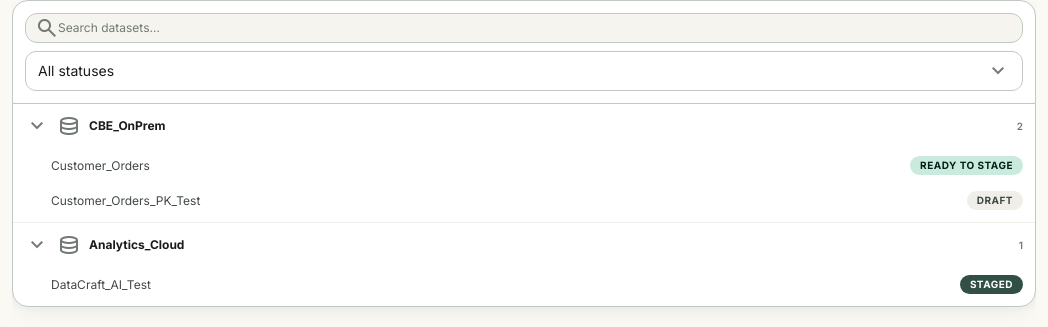
Test: ConnectionDatasetExplorer › filters datasets by status when the status filter is used
Click the button with aria-label "Filter by status": (76, 70) [25, 51, 1023, 91]
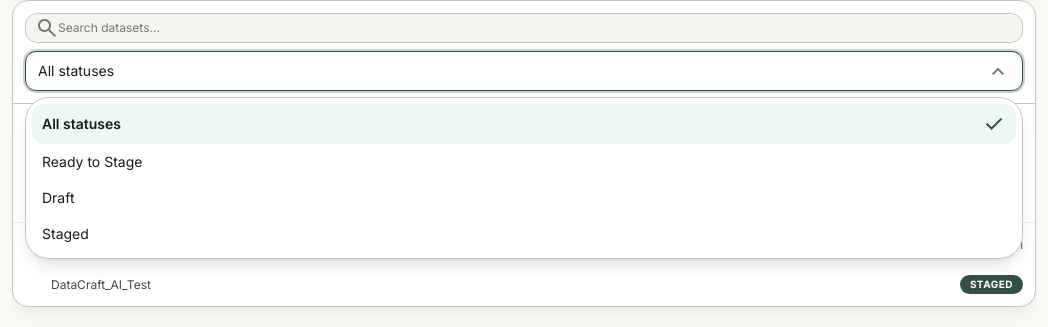
Click the option "Staged": (65, 234) [42, 225, 89, 242]
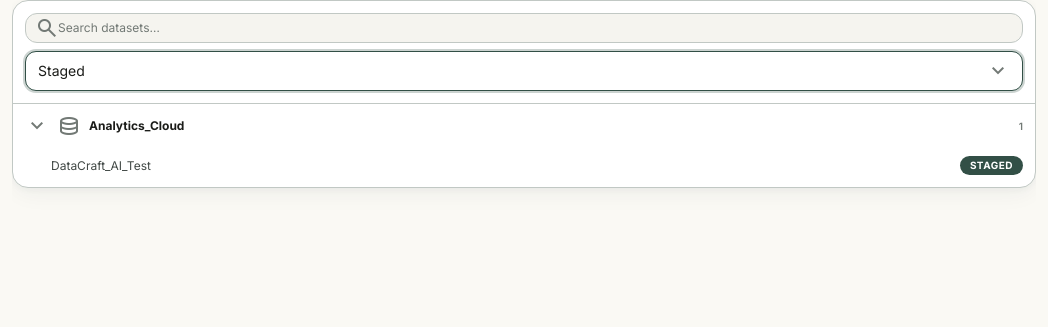
expect the text "DataCraft_AI_Test" is shown: met, box [51, 158, 151, 172]
expect the button "Customer_Orders" is gone: met
expect the button "Customer_Orders_PK_Test" is gone: met
